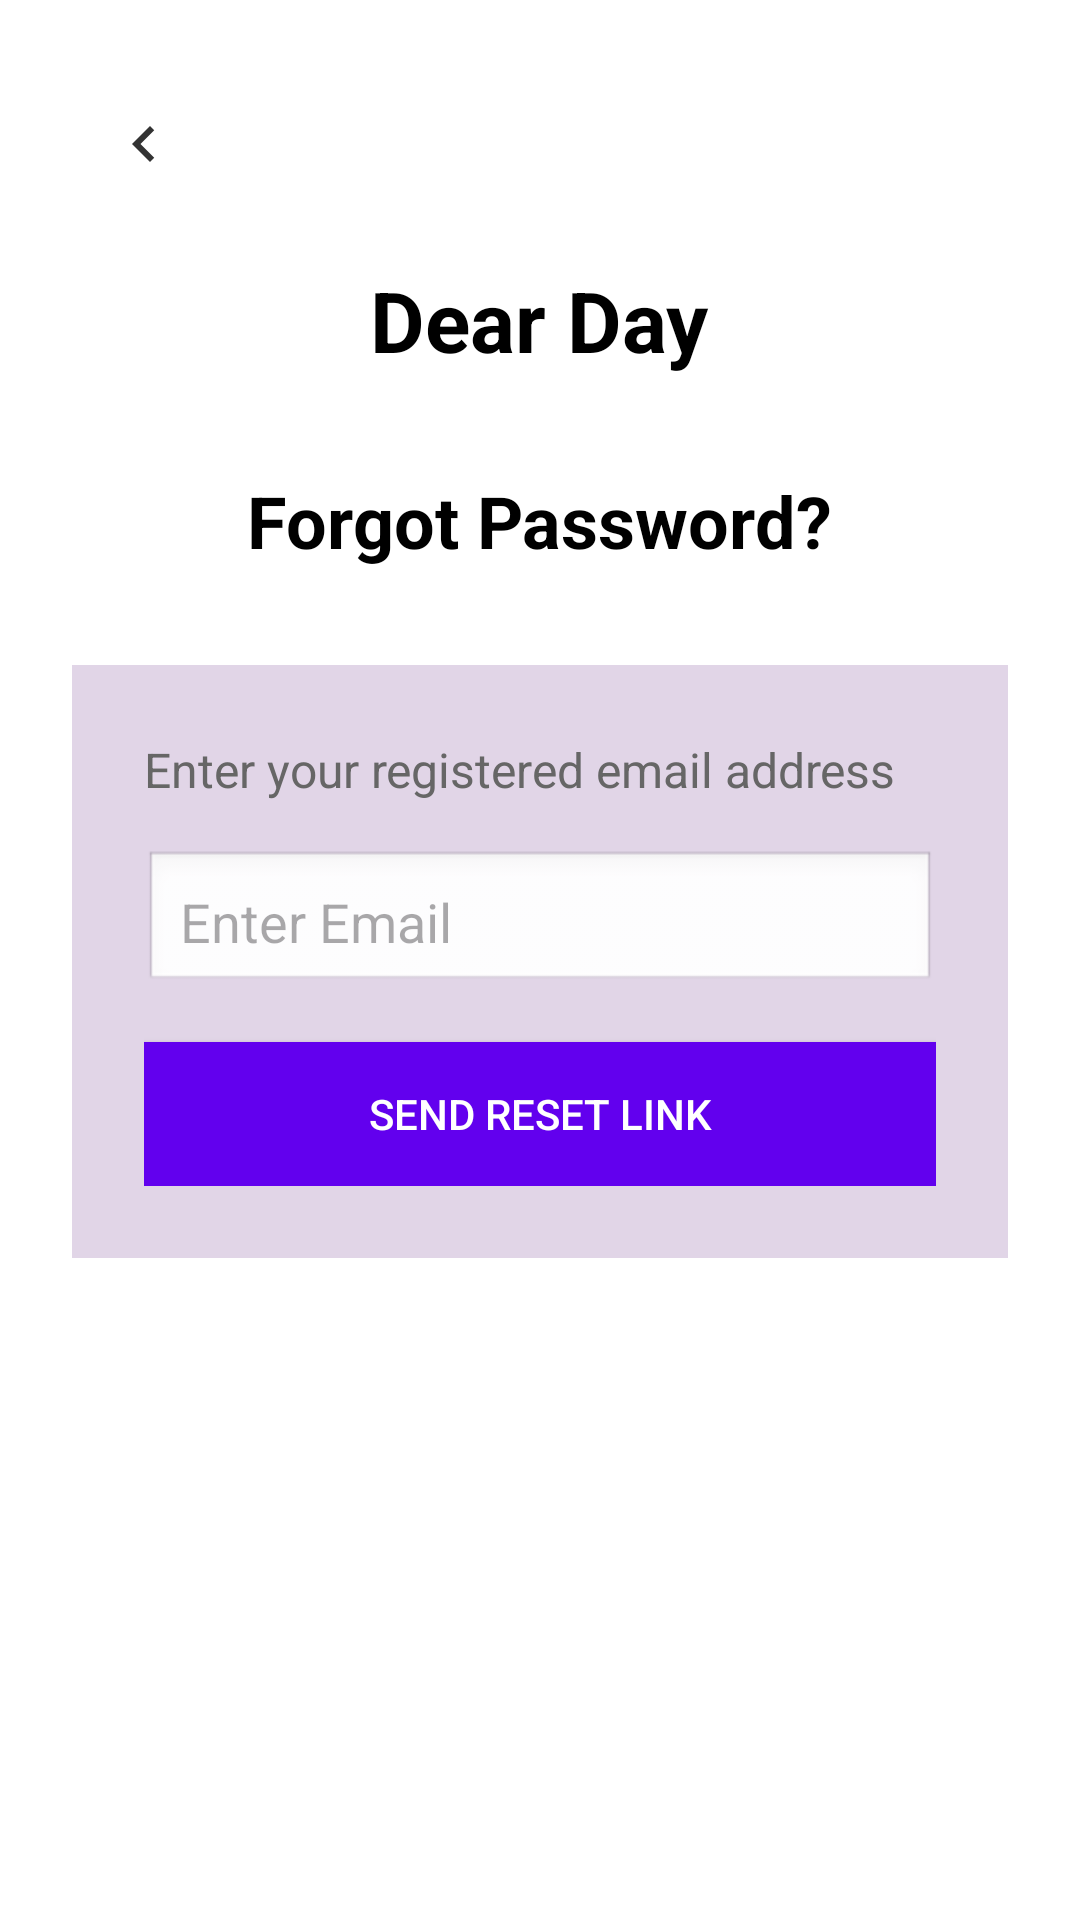

Where to tap for icons on this 1080*1920 app screen, as (x=x, y=y):
Back: (x=143, y=144)
